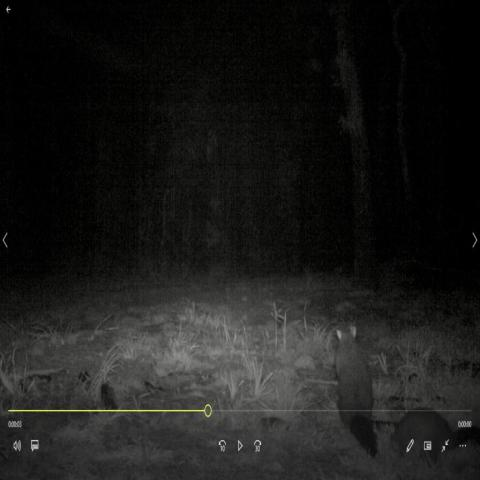small_animal: (333, 319, 380, 458), (389, 406, 480, 463), (78, 368, 122, 420)
